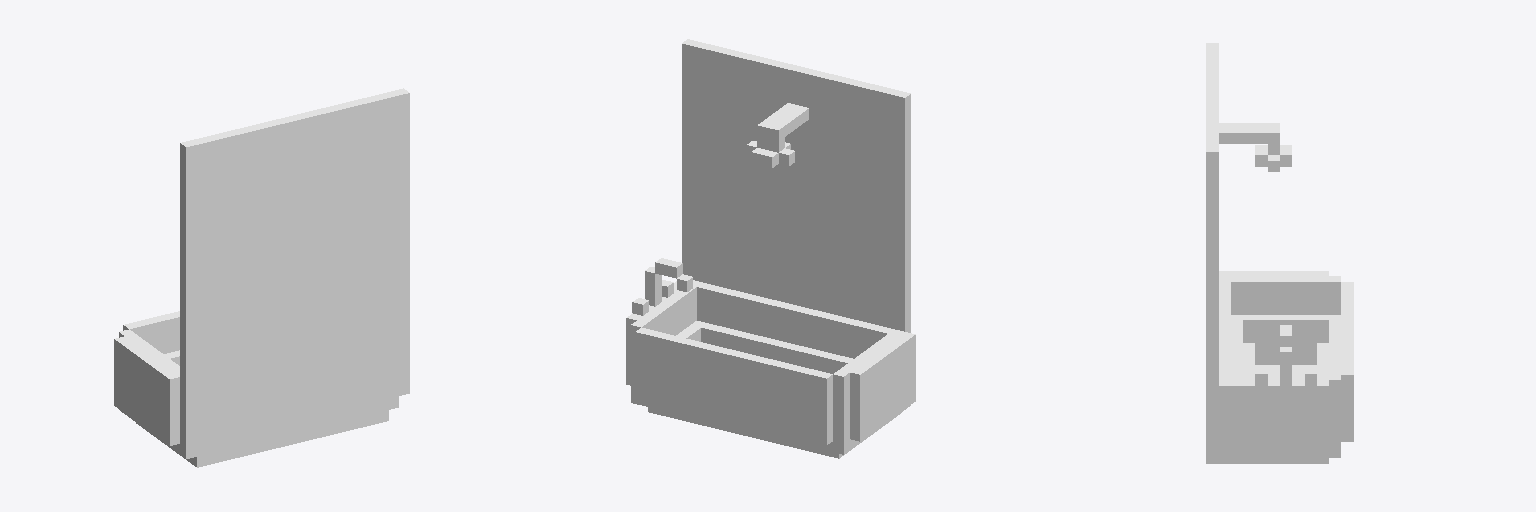
Rendered from Shower_tub.obj.
3 views of the same model, side by side, from view 1: azimuth 30°, elevation 25°; view 2: azimuth 150°, elevation 25°; view 3: azimuth 270°, elevation 25° (orthographic).
Visible parts, largest first — view 1: Shower_tub; view 2: Shower_tub; view 3: Shower_tub.
Part boxes in pixels (x1,y1,x2,y2): Shower_tub: (114, 88, 409, 467); Shower_tub: (626, 39, 915, 458); Shower_tub: (1206, 43, 1353, 463).
Size of the model in its own units: 22 by 29 by 12.